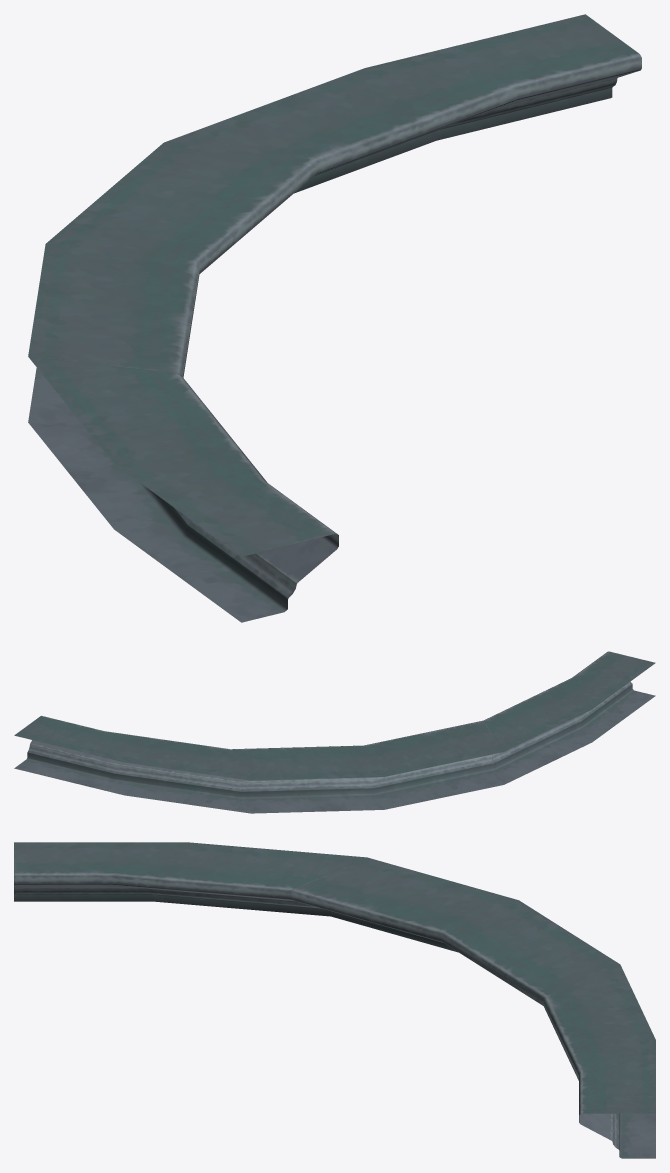
File: TrimV2_Curved.fbx
3 views of the same model, one above another, from view 1: azimuth 30°, elevation 25°; view 2: azimuth 150°, elevation 25°; view 3: azimuth 270°, elevation 25° (orthographic). The views are drawn at different scales.
Parts seen in each view (by area): view 1: TrimV2_Curved; view 2: TrimV2_Curved; view 3: TrimV2_Curved.
Boxes of the visible parts, x1=… form: TrimV2_Curved: x1=28, y1=14, x2=641, y2=622; TrimV2_Curved: x1=14, y1=651, x2=655, y2=813; TrimV2_Curved: x1=14, y1=842, x2=655, y2=1158.
Size of the model in its own units: 500 by 38.65 by 500.
Materials: 1 (1 with a texture image).
